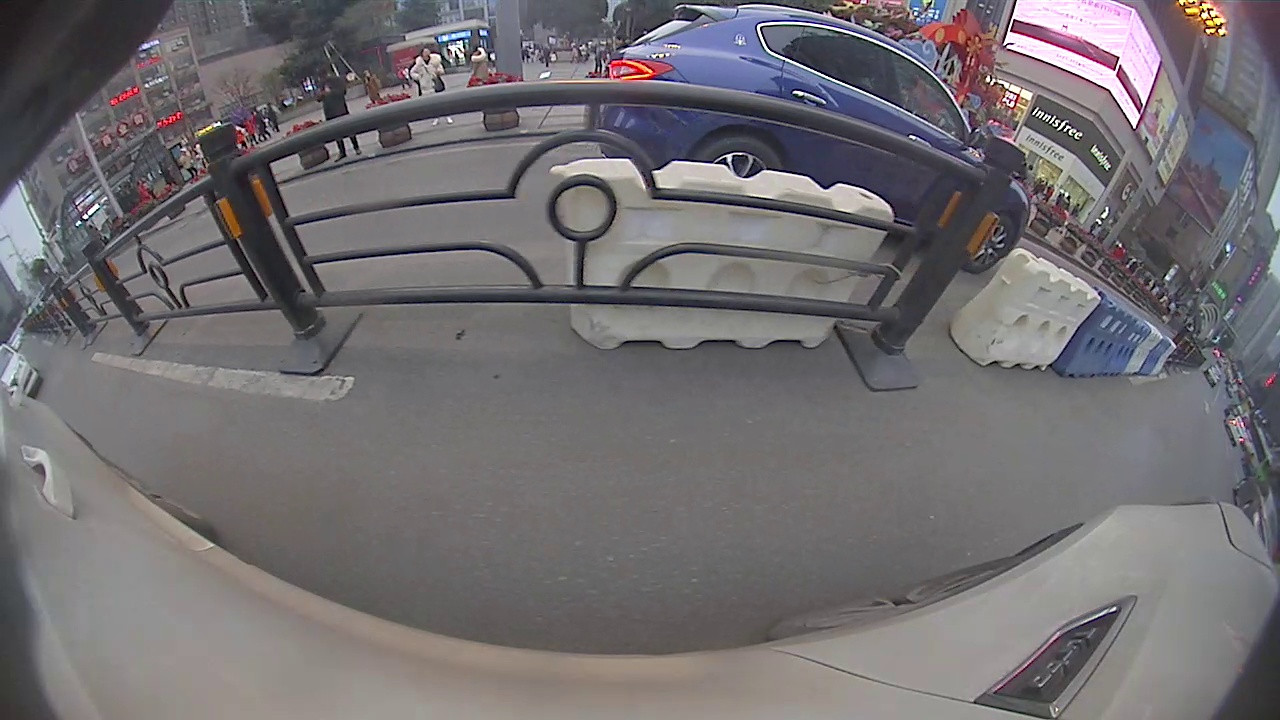car: (598, 6, 1032, 276)
front: (965, 213, 1018, 274)
person: (309, 69, 363, 163), (408, 50, 453, 129)
rear: (689, 130, 783, 180)
